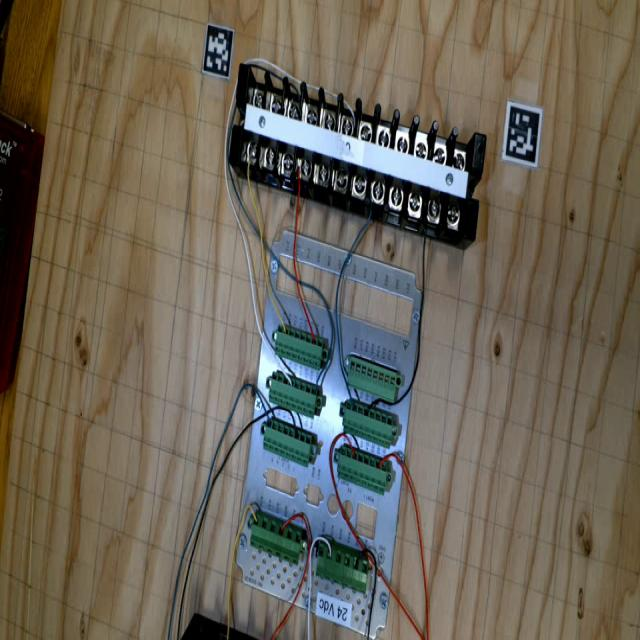Phillips_Block: (211, 56, 507, 240)
Terminal_1: (308, 540, 377, 595), (243, 512, 310, 565)
Terminal_2: (329, 442, 396, 496), (335, 399, 401, 450), (256, 417, 320, 467), (262, 369, 325, 419), (268, 323, 330, 370)
